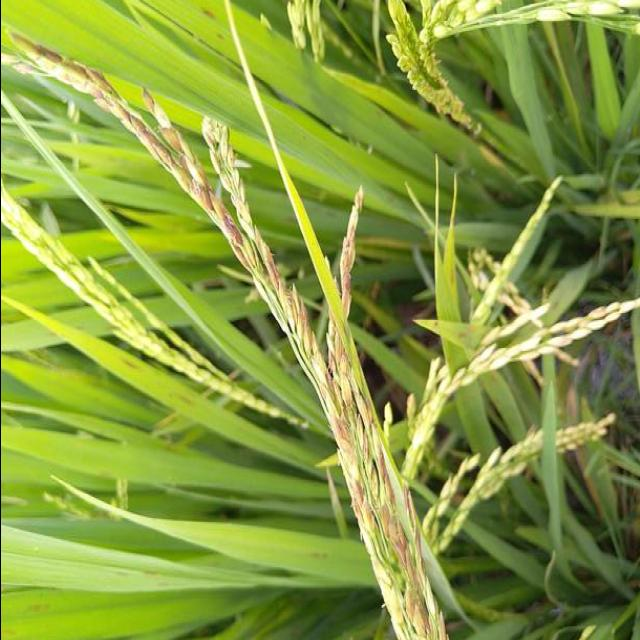Panicle Blight: (21, 34, 444, 640), (339, 188, 364, 317)
